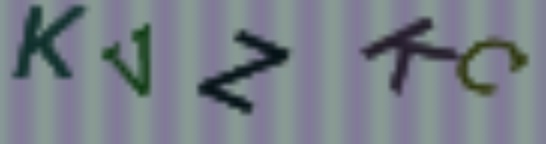C: (456, 33, 531, 97)
K: (360, 11, 462, 101), (11, 1, 90, 81)
V: (98, 22, 160, 102)
Z: (192, 27, 292, 118)
